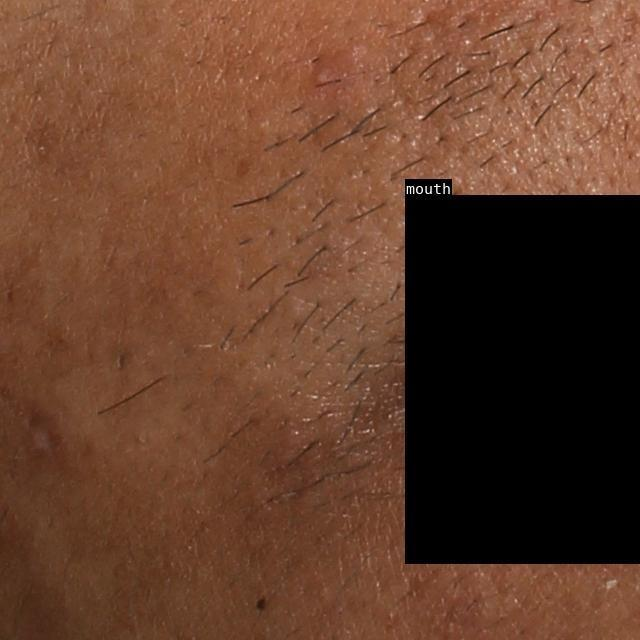nevus: (249, 592, 267, 613)
